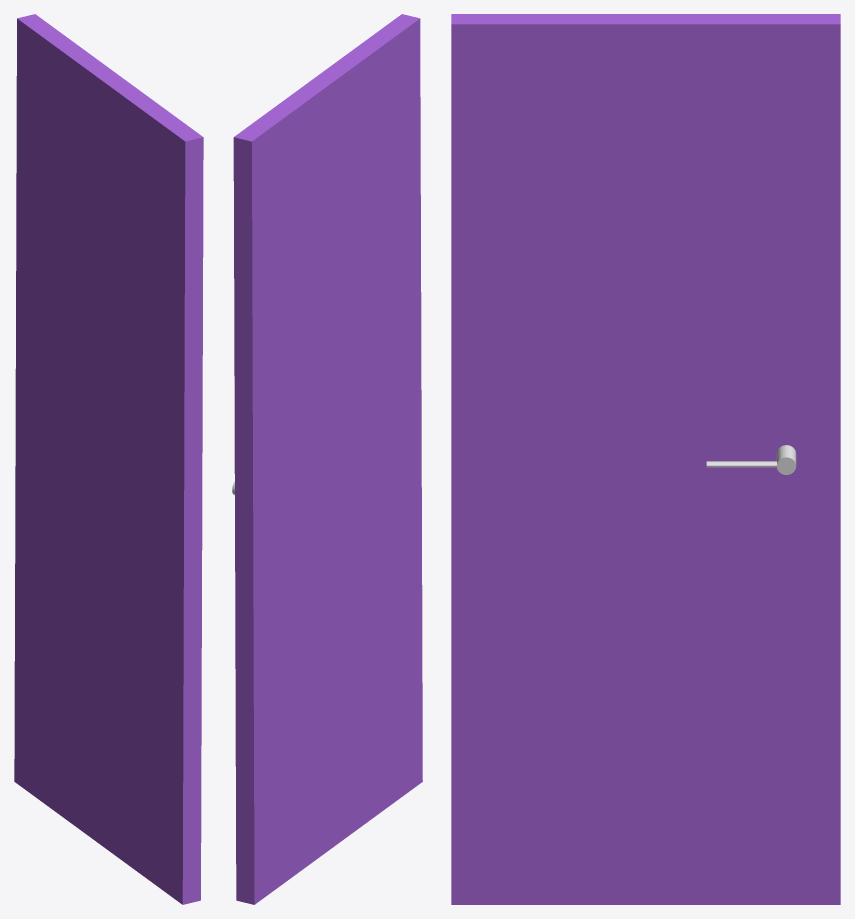
The model's file is tests2.glb.
The picture shows the model from 3 angles, left to right: view 1: azimuth 30°, elevation 25°; view 2: azimuth 150°, elevation 25°; view 3: azimuth 270°, elevation 25°; orthographic projection. The views are drawn at different scales.
Parts seen in each view (by area): view 1: Cube, glass-tuer; view 2: Cube, glass-tuer; view 3: Cube, glass-tuer, klinke.
Boxes of the visible parts, x1=… form: Cube: x1=14, y1=14, x2=203, y2=904; glass-tuer: x1=15, y1=18, x2=203, y2=900; Cube: x1=233, y1=14, x2=422, y2=904; glass-tuer: x1=233, y1=18, x2=421, y2=901; Cube: x1=451, y1=14, x2=840, y2=479; glass-tuer: x1=451, y1=455, x2=840, y2=904; klinke: x1=706, y1=445, x2=796, y2=474.
Bounding box in the file's own units: 0.2281 × 4 × 1.6.
